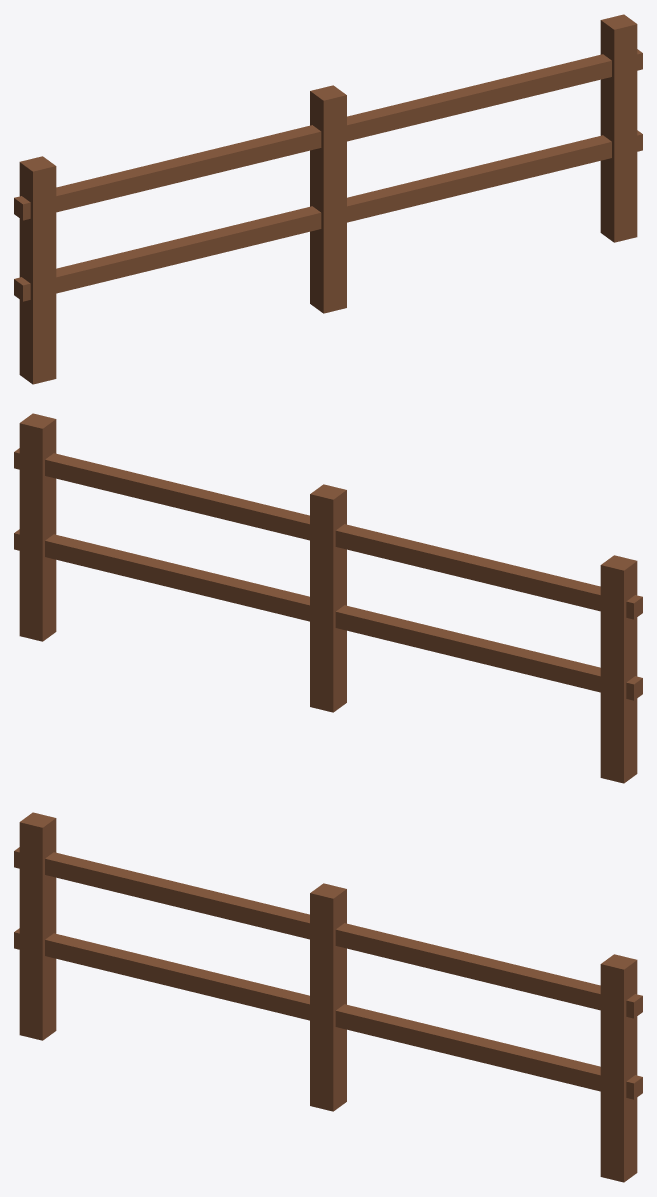
Rendered from fence.glb.
3 views of the same model, one above another, from view 1: azimuth 30°, elevation 25°; view 2: azimuth 150°, elevation 25°; view 3: azimuth 330°, elevation 25° (orthographic).
Visible parts, largest first — view 1: rail.001, rail, post, post.002, post.001; view 2: rail.001, rail, post, post.002, post.001; view 3: rail.001, rail, post.002, post, post.001.
Boxes of the visible parts, x1,y1,x2,y2 form: rail.001: (14, 49, 642, 220); rail: (14, 130, 642, 301); post: (19, 156, 56, 384); post.002: (600, 14, 637, 242); post.001: (310, 85, 346, 313); rail.001: (14, 448, 642, 619); rail: (14, 529, 642, 700); post: (600, 555, 637, 783); post.002: (19, 413, 56, 641); post.001: (310, 484, 346, 712); rail.001: (14, 847, 642, 1018); rail: (14, 928, 642, 1099); post.002: (600, 954, 637, 1182); post: (19, 812, 56, 1040); post.001: (310, 883, 346, 1111).
Bounding box in the file's own units: 3.2 × 1.05 × 0.12.
